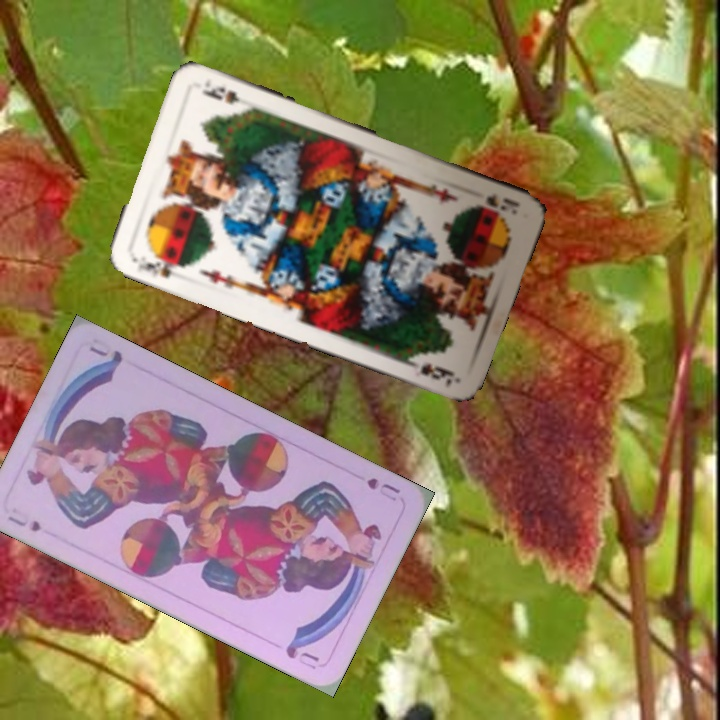SK: (139, 250, 188, 281), (482, 189, 523, 217)
SU: (362, 473, 403, 497), (4, 511, 44, 535)
